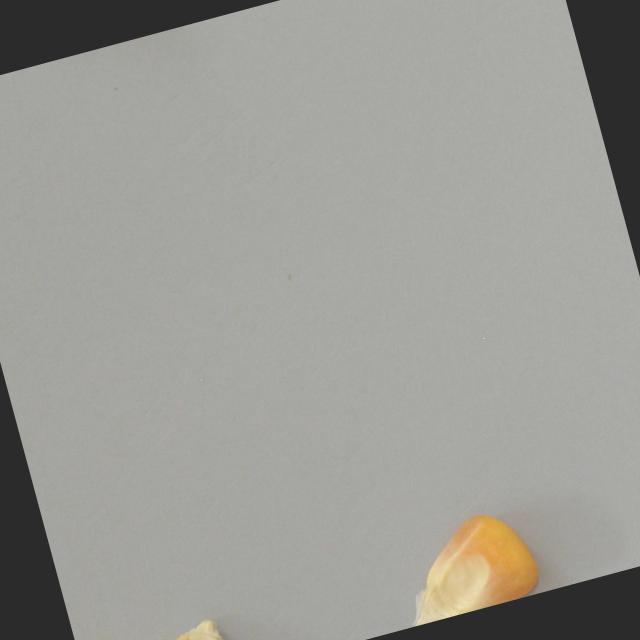entero: (384, 496, 547, 627), (112, 608, 234, 640)
